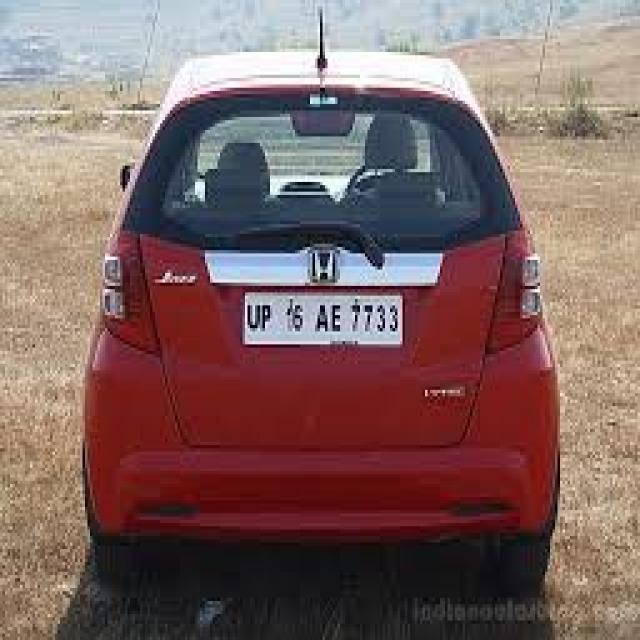Number-Plate: (247, 293, 401, 341)
